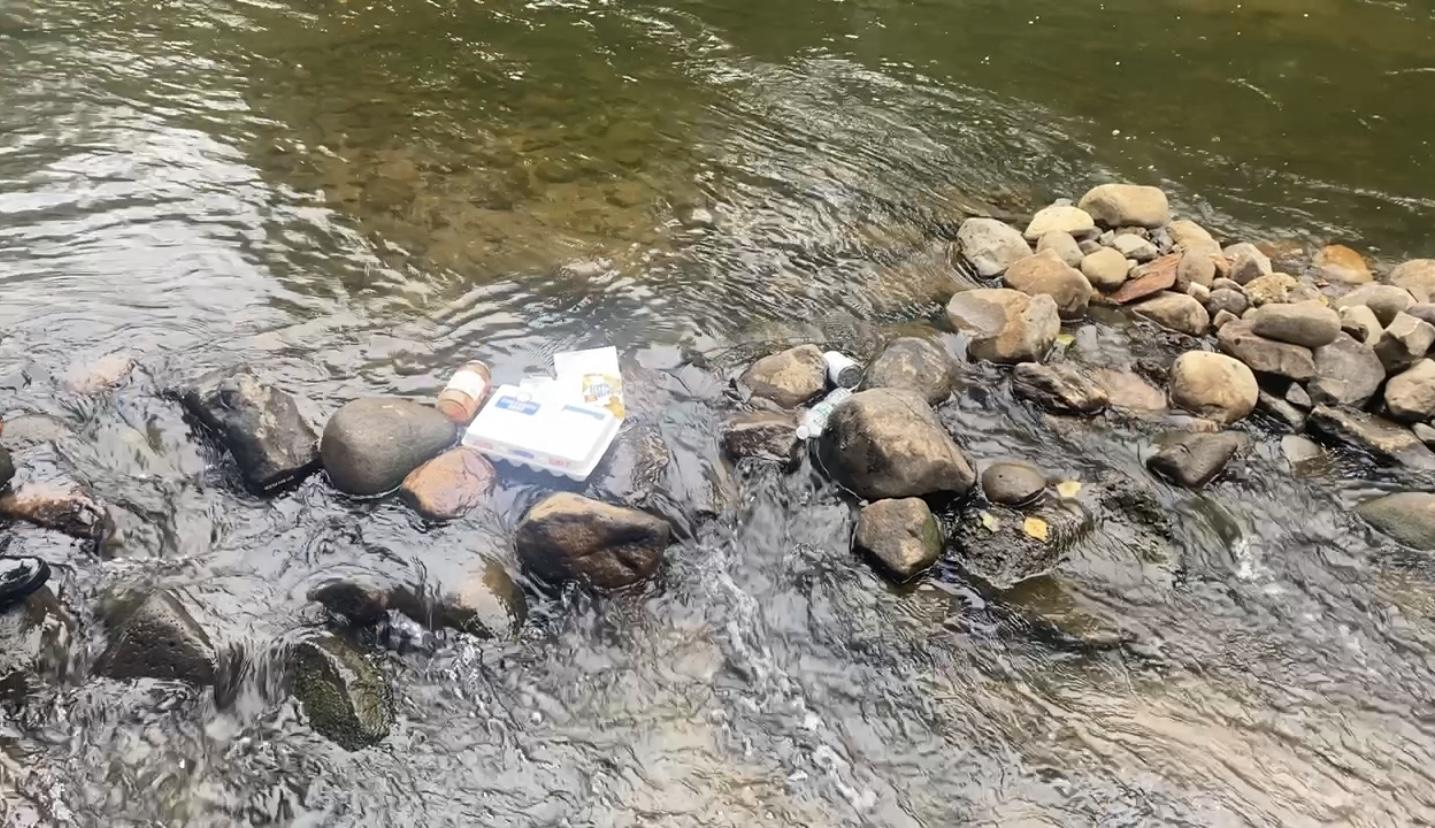cardboard: (541, 337, 632, 430)
glass: (431, 353, 501, 428)
metal: (816, 342, 866, 398)
plastic: (455, 376, 629, 490), (789, 381, 861, 446)
